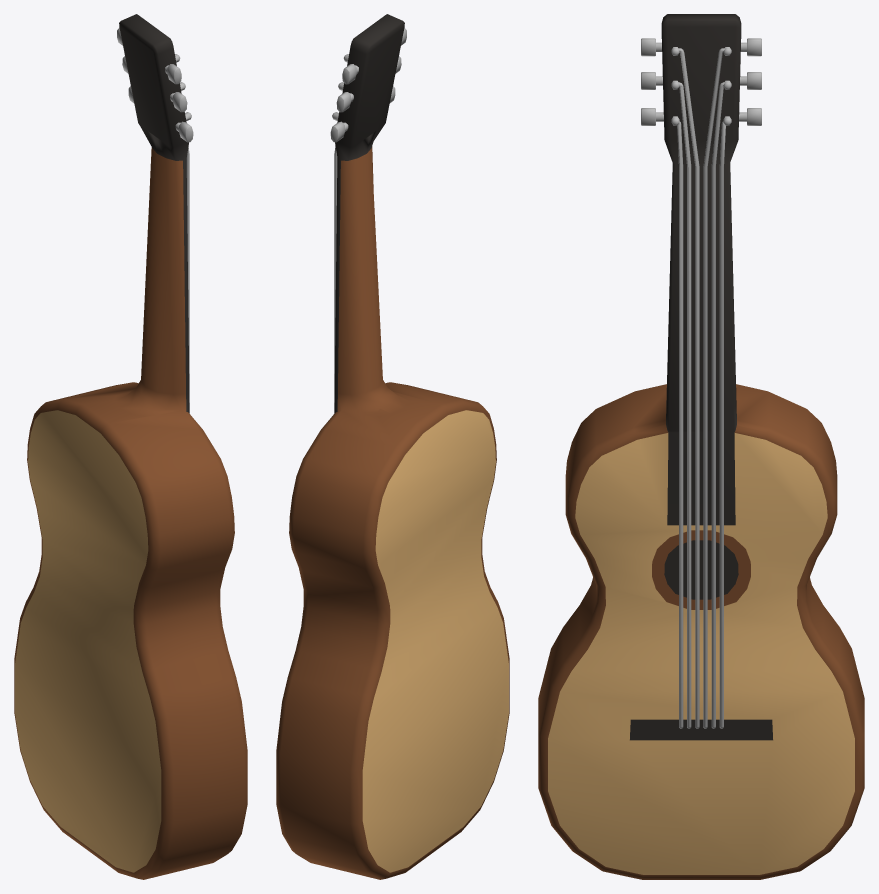
Rendered from guitar.fbx.
3 renders of one model, left to right at view 1: azimuth 30°, elevation 25°; view 2: azimuth 150°, elevation 25°; view 3: azimuth 270°, elevation 25°, orthographic. The views are drawn at different scales.
Parts seen in each view (by area): view 1: Body, TuningPins, Strings; view 2: Body, TuningPins, Strings; view 3: Body, Strings, TuningPins.
Part boxes in pixels (left/top/right/bottom): Body: left=14, top=14, right=247, bottom=879; TuningPins: left=117, top=27, right=193, bottom=142; Strings: left=186, top=147, right=189, bottom=402; Body: left=276, top=14, right=509, bottom=879; TuningPins: left=330, top=27, right=406, bottom=142; Strings: left=334, top=146, right=337, bottom=402; Body: left=538, top=14, right=864, bottom=879; Strings: left=677, top=48, right=725, bottom=728; TuningPins: left=641, top=38, right=761, bottom=125.
Size of the model in its own units: 14.94 by 127 by 44.
